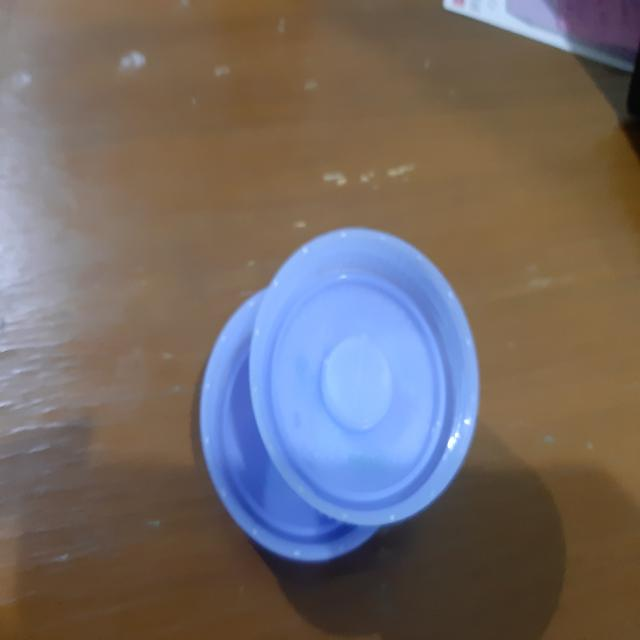TutupGalon: (197, 224, 482, 565)
